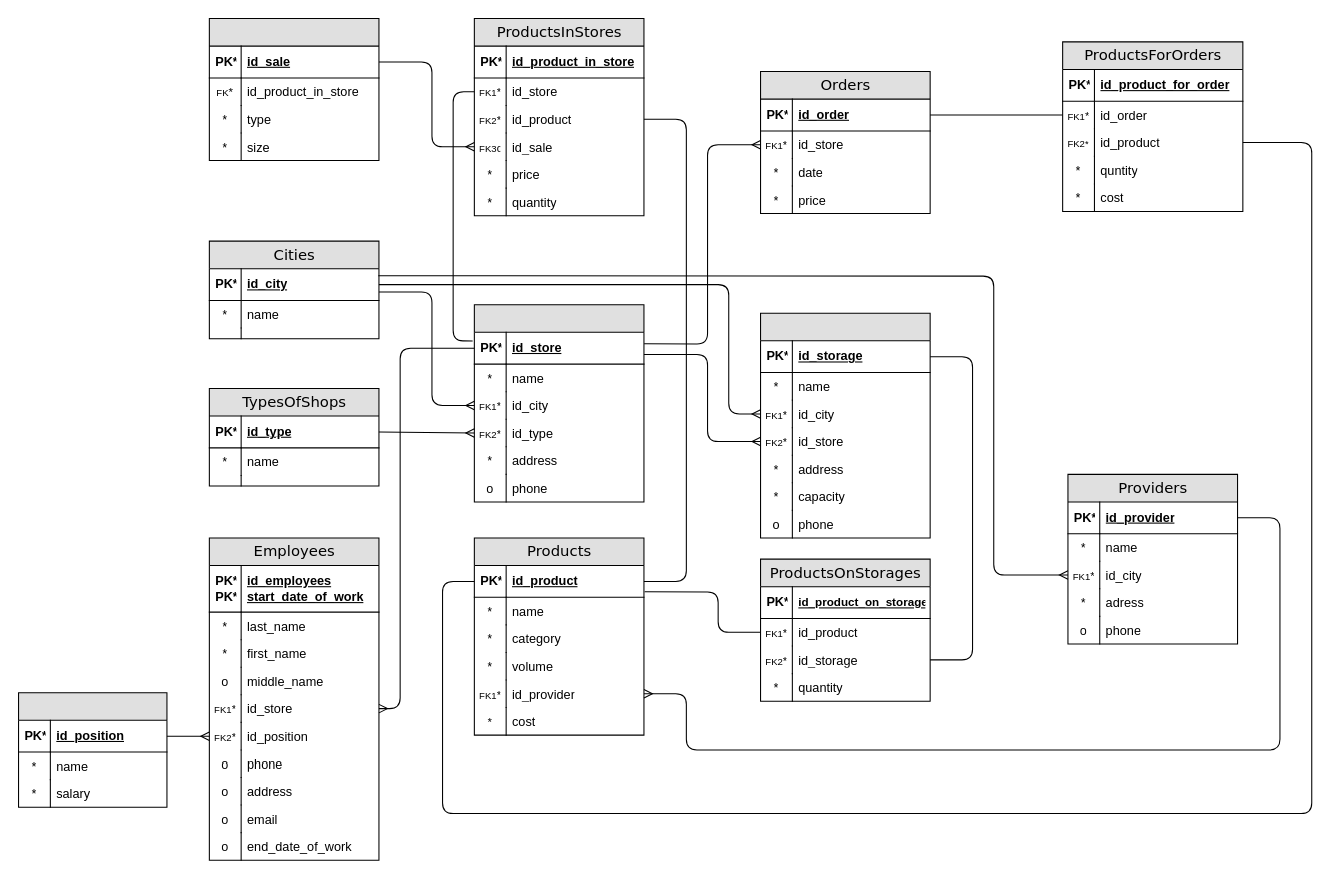
The diagram is 1331 pixels wide and 882 high, and some of its shapes have lost their labels. Each missing label, with the box of its shape:
Positions: (17, 692, 167, 807)
Sales: (208, 17, 379, 161)
Storages: (759, 312, 930, 538)
Stores: (473, 304, 644, 502)
